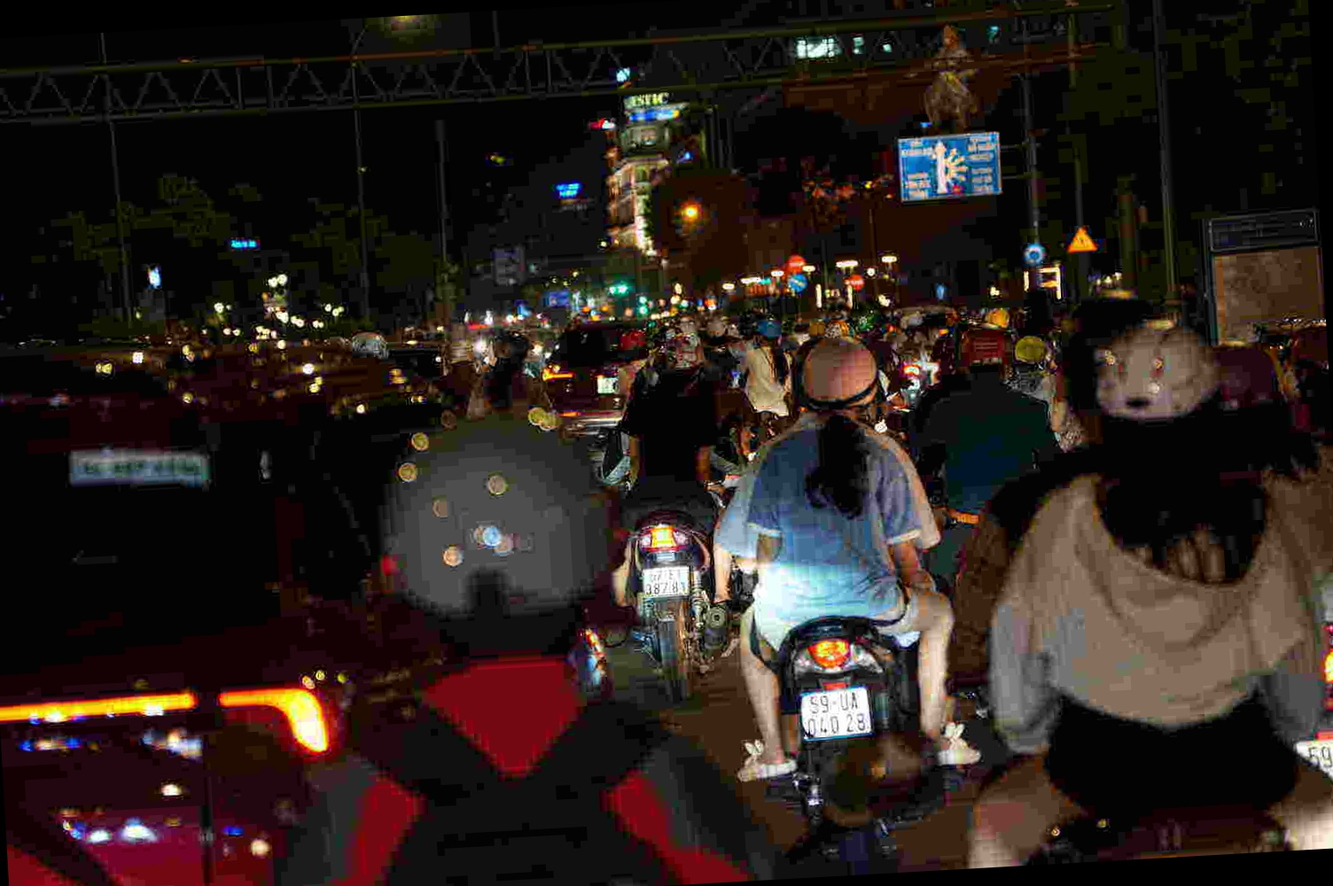Bien-so: (800, 687, 873, 739), (1297, 736, 1333, 799), (642, 564, 690, 608)
